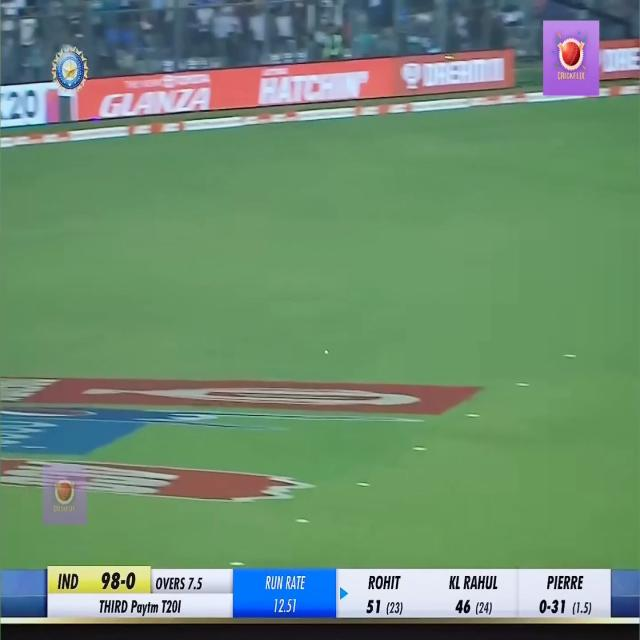fully_visible: (126, 593, 161, 625)
